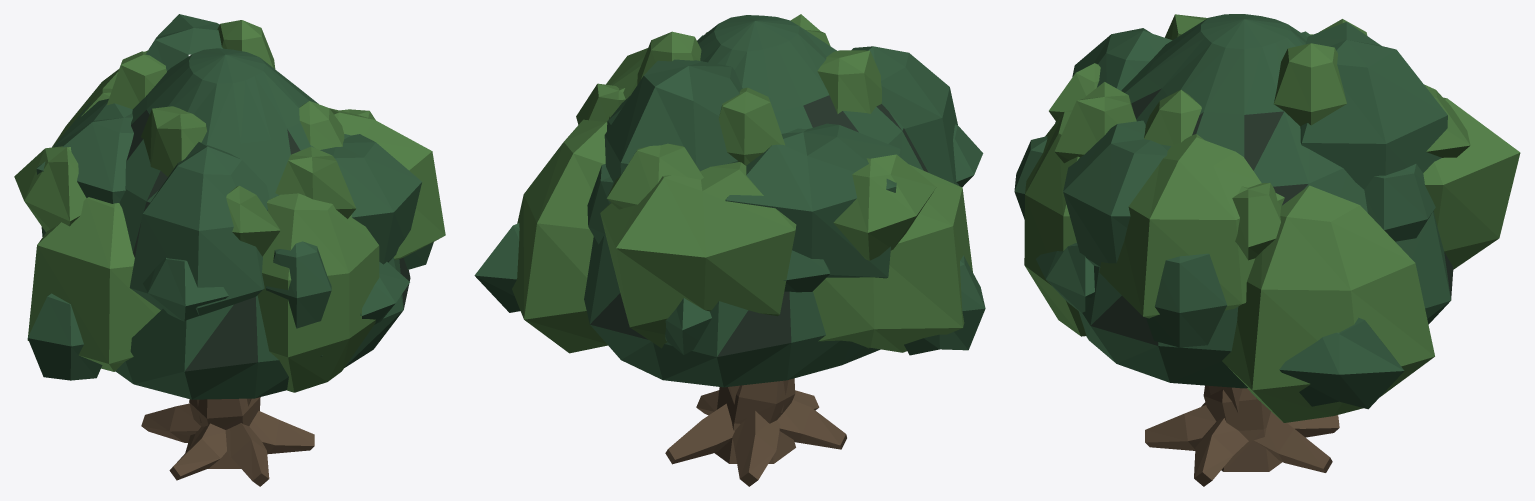
The model's file is azalea-bush-7bb14d.glb.
3 views of the same model, side by side, from view 1: azimuth 30°, elevation 25°; view 2: azimuth 150°, elevation 25°; view 3: azimuth 270°, elevation 25° (orthographic). The views are drawn at different scales.
Visible parts, largest first — view 1: canopy, azalea-wood; view 2: canopy, azalea-wood; view 3: canopy, azalea-wood.
Part boxes in pixels (x1,y1,x2,y2): canopy: [14, 14, 445, 399]; azalea-wood: [141, 397, 314, 486]; canopy: [474, 14, 985, 387]; azalea-wood: [665, 378, 846, 486]; canopy: [1014, 14, 1520, 422]; azalea-wood: [1145, 385, 1339, 486].
Size of the model in its own units: 1 by 0.9504 by 1.
